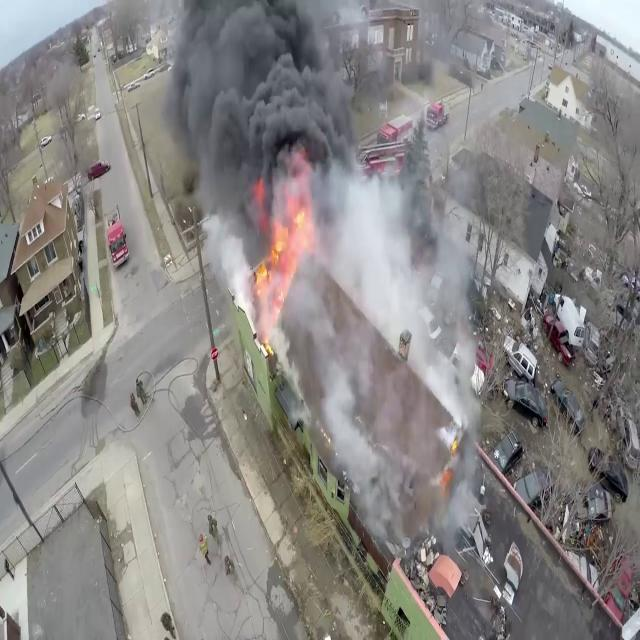Fire: (254, 180, 316, 312)
Smoke: (319, 181, 504, 558), (158, 0, 370, 252)
